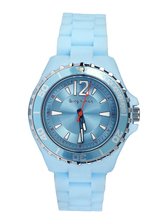watch: (25, 10, 142, 212)
